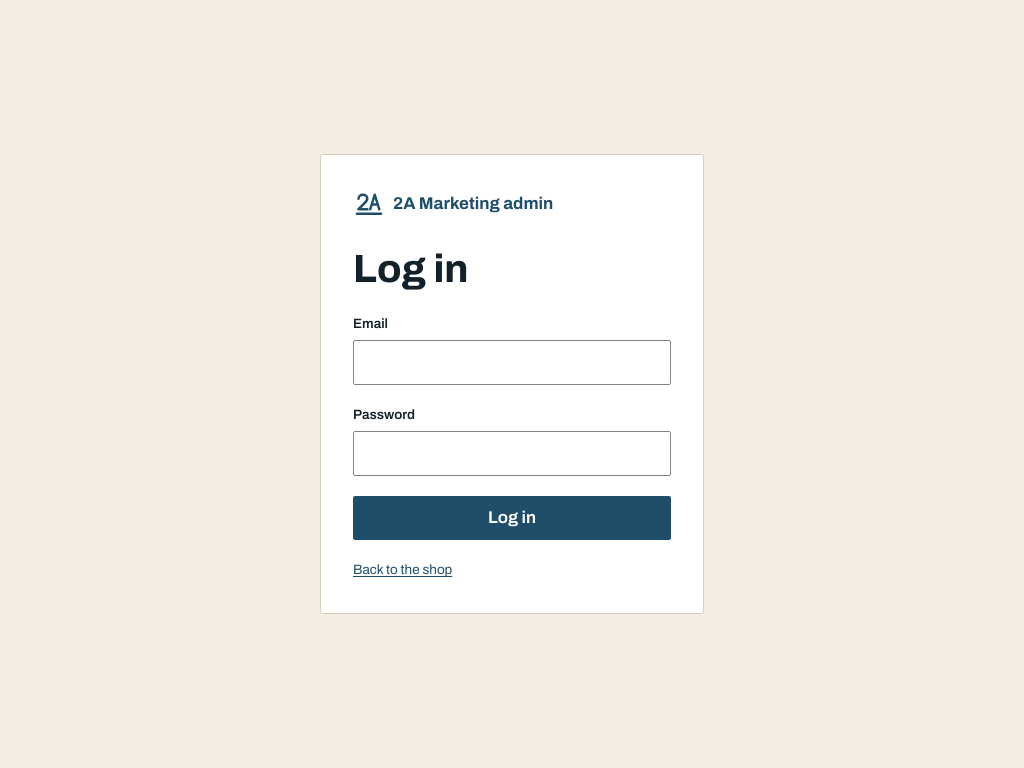
Scenario: admin login › goes to the admin after a successful login
The width and height of the screenshot is (1024, 768).
Type "owner@example.com" into the field labelled "Email" at (512, 363), box left=353, top=340, right=671, bottom=385
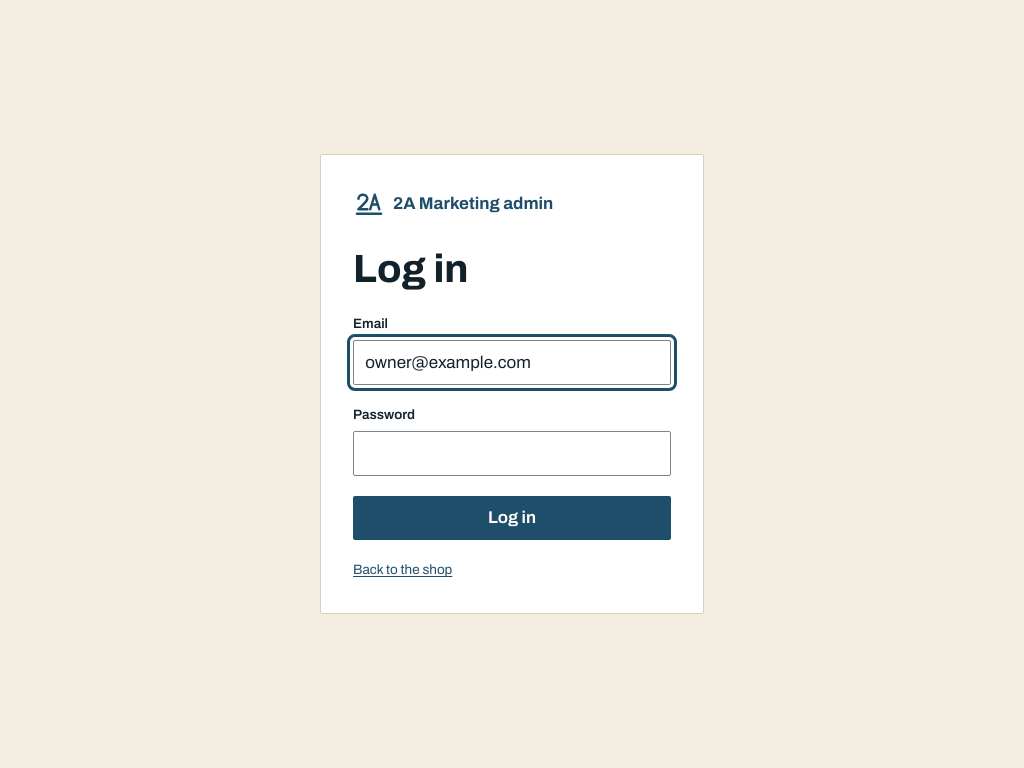
Type "right-password" into the password field labelled "Password" at (512, 454), box left=353, top=431, right=671, bottom=476
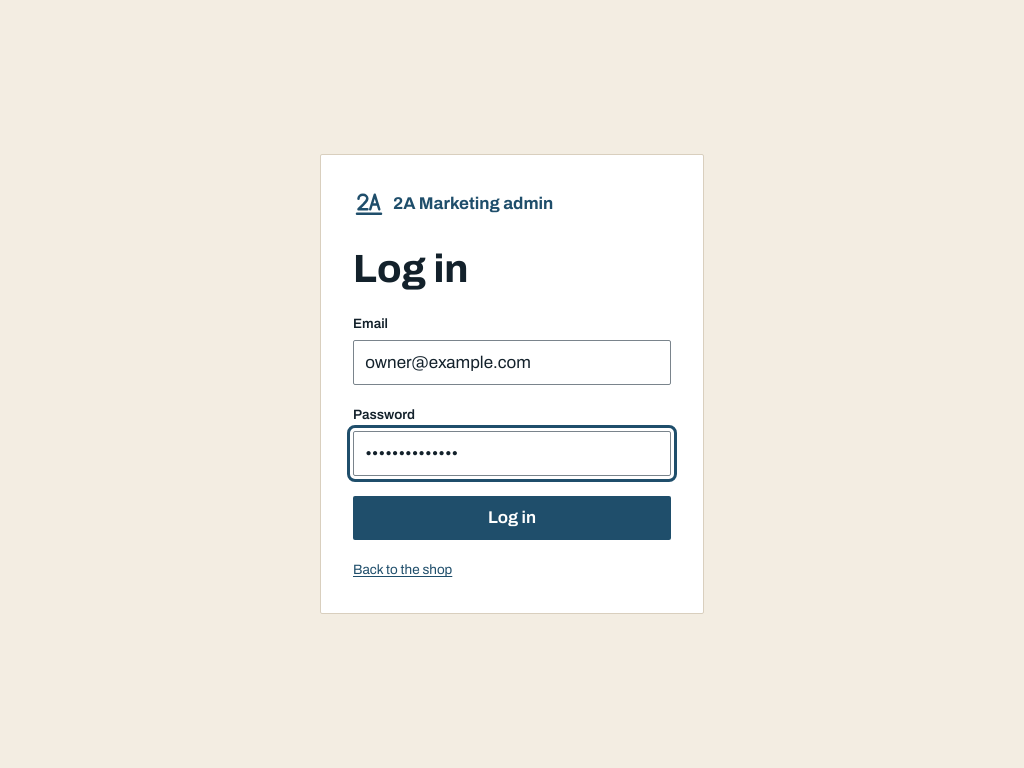
Click the button "Log in" at (512, 518), box left=353, top=496, right=671, bottom=540
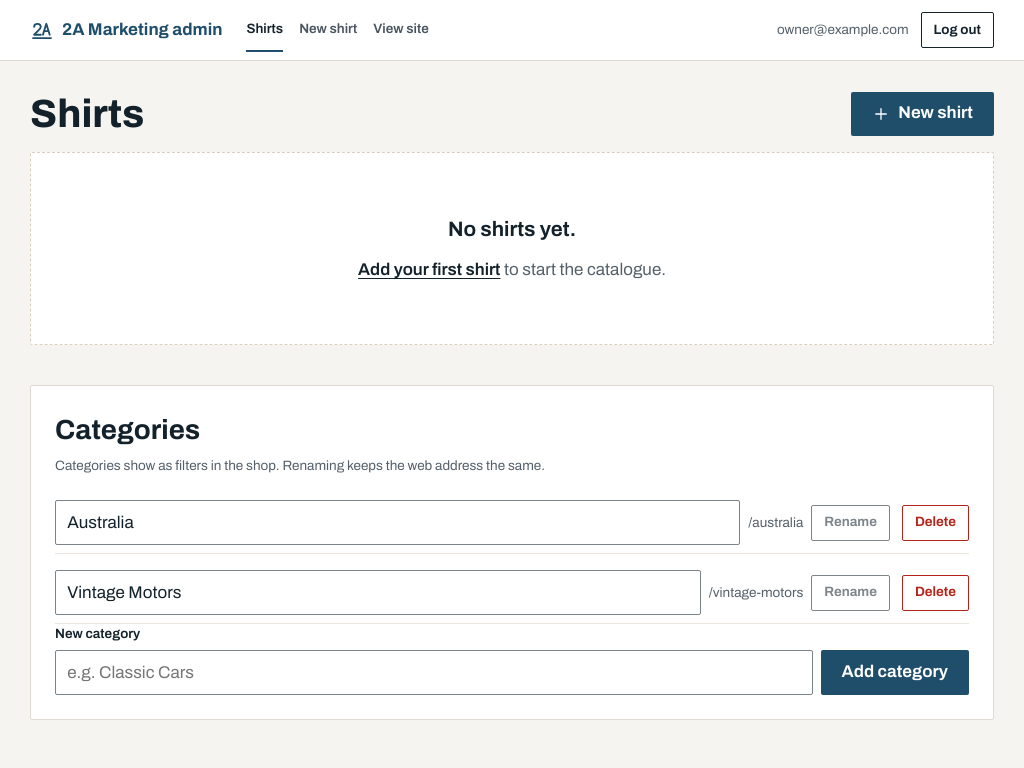
Expected: the heading "Shirts" is shown, left=30, top=92, right=144, bottom=135
Expected: the text "No shirts yet." is shown, left=448, top=214, right=576, bottom=246
